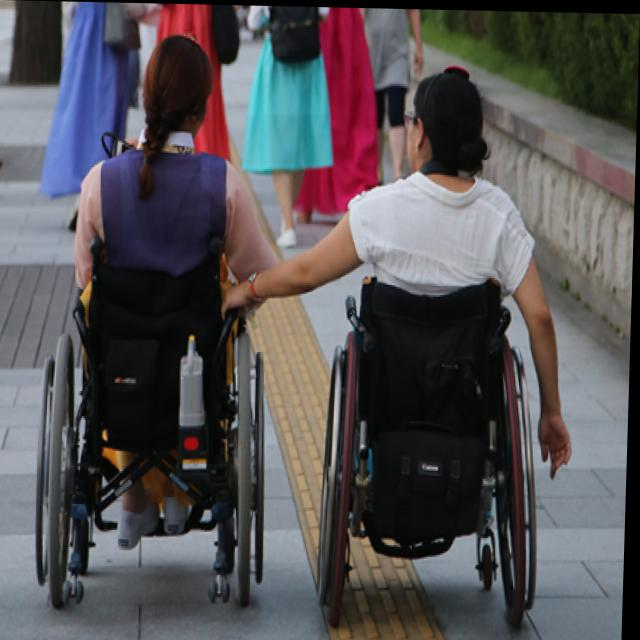wheelchair: (317, 36, 586, 627), (33, 32, 286, 611)
